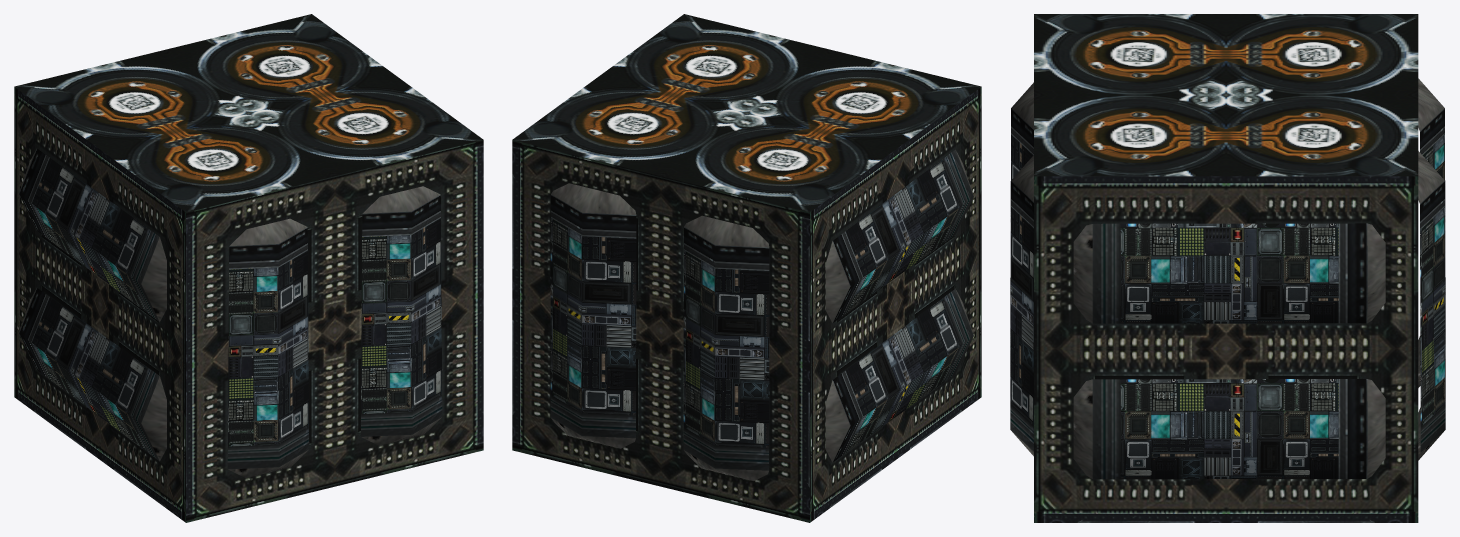
File: Battery_medium_03.FBX
The picture shows the model from 3 angles, left to right: view 1: azimuth 30°, elevation 25°; view 2: azimuth 150°, elevation 25°; view 3: azimuth 270°, elevation 25°; orthographic projection. The views are drawn at different scales.
Visible parts, largest first — view 1: Battery_medium_03, Liquid; view 2: Battery_medium_03, Liquid; view 3: Battery_medium_03, Liquid.
Part boxes in pixels (x1,y1,x2,y2): Battery_medium_03: [14, 14, 483, 522]; Liquid: [32, 158, 441, 451]; Battery_medium_03: [512, 14, 981, 522]; Liquid: [550, 159, 961, 452]; Battery_medium_03: [1010, 14, 1445, 522]; Liquid: [1010, 134, 1445, 479].
Bounding box in the file's own units: 147 × 129 × 147.
